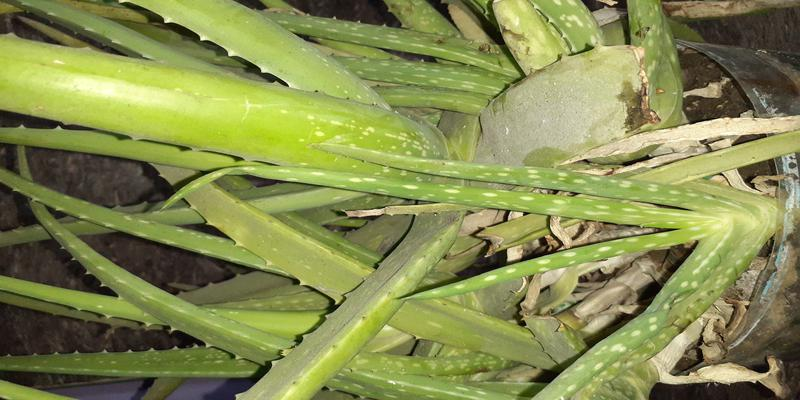Aloevera: (83, 17, 753, 383)
